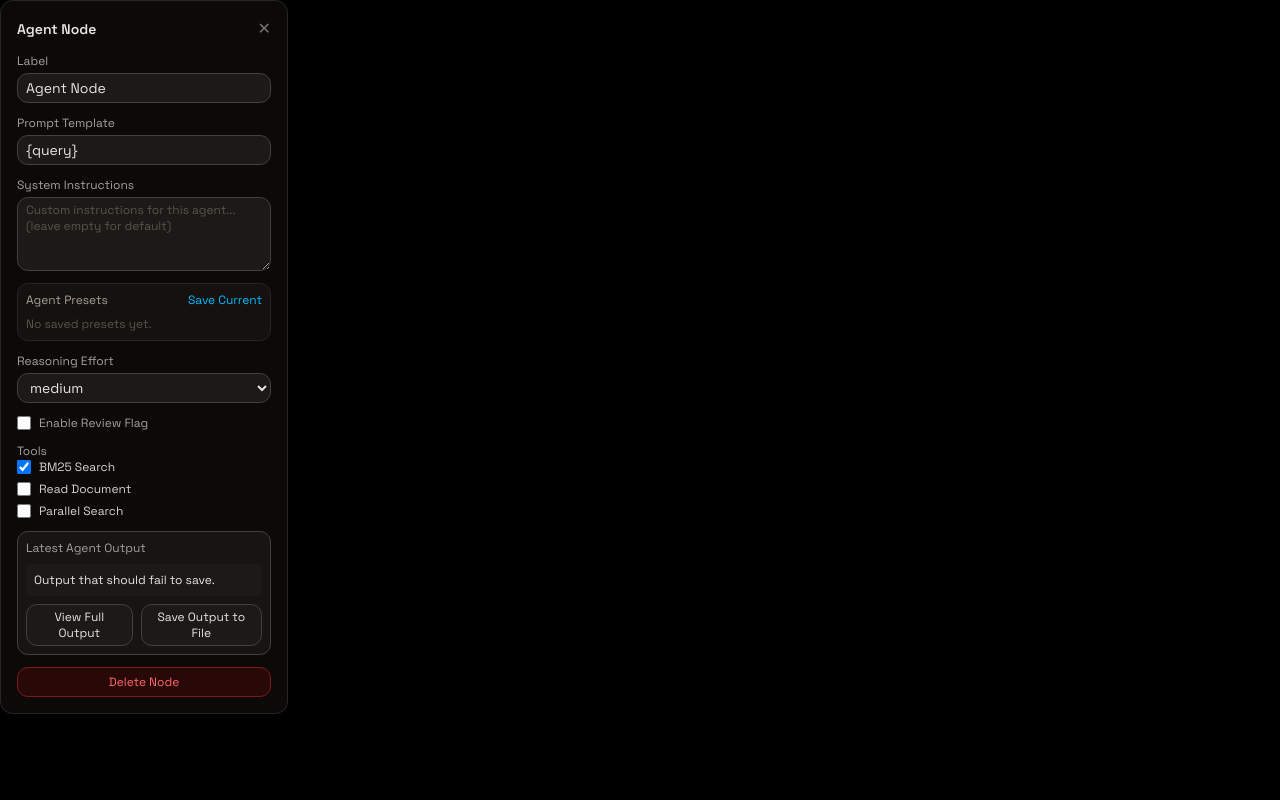
Scenario: NodeConfigPanel agent output tools › shows modal save errors and still revokes blob URLs on save failure
The width and height of the screenshot is (1280, 800).
Click the button "View Full Output" at (79, 625), box top-left (26, 604), bottom-right (133, 646)
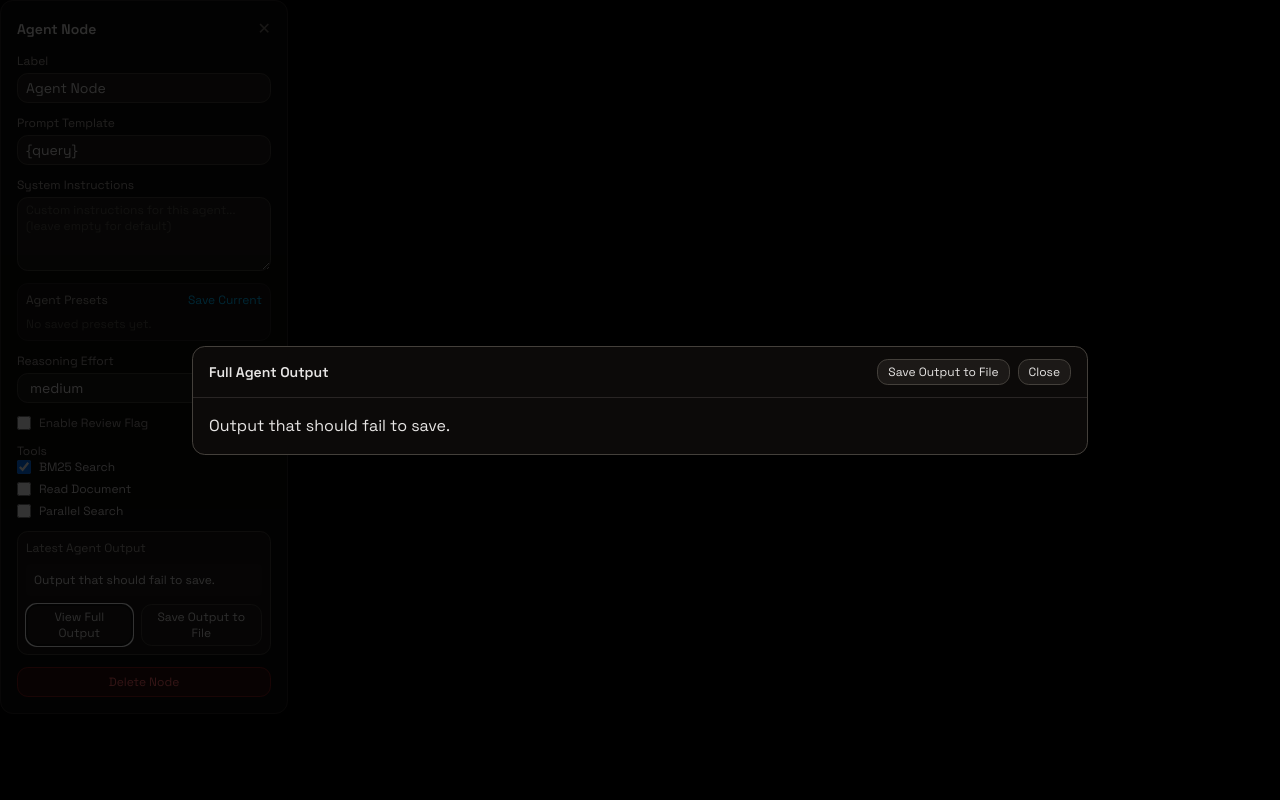
Click the button "Save Output to File" at (943, 372), box top-left (877, 358), bottom-right (1010, 384)
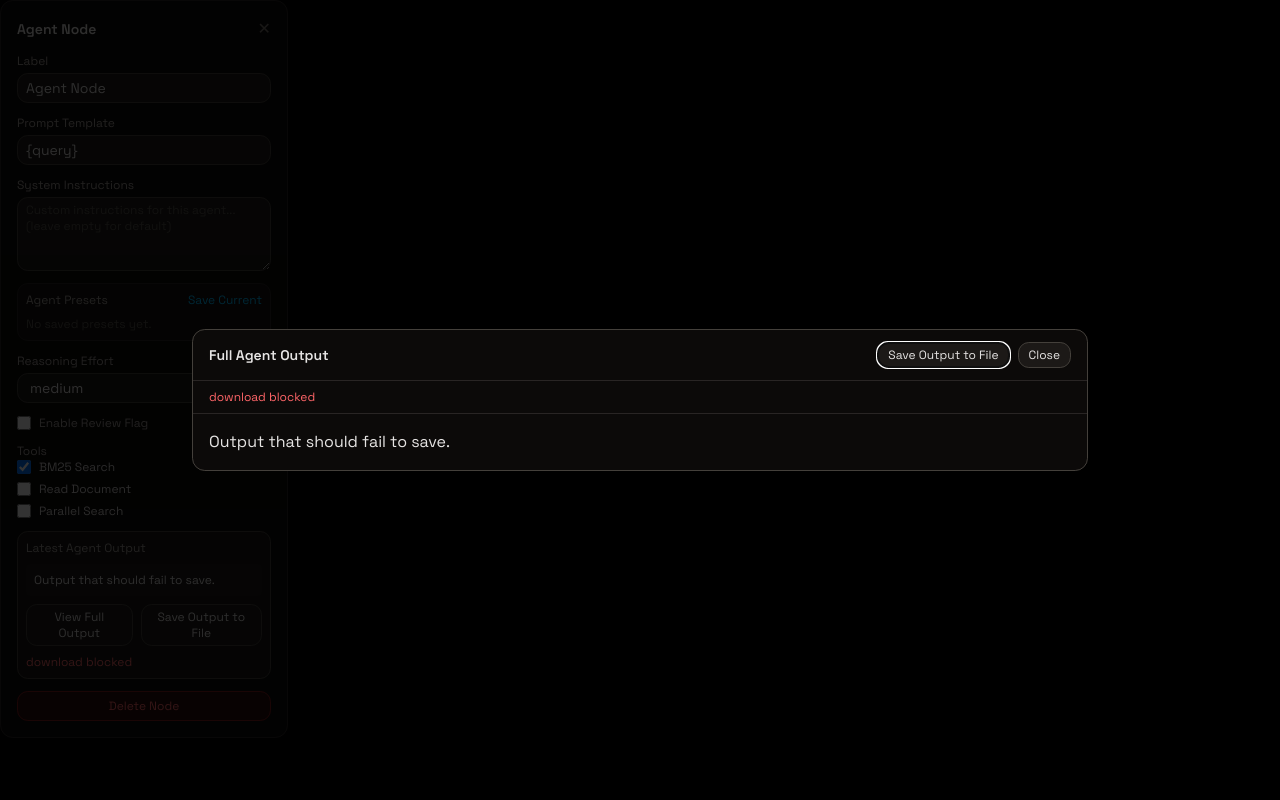
Result: the text "download blocked" is shown at top-left (193, 381), bottom-right (1087, 414)
